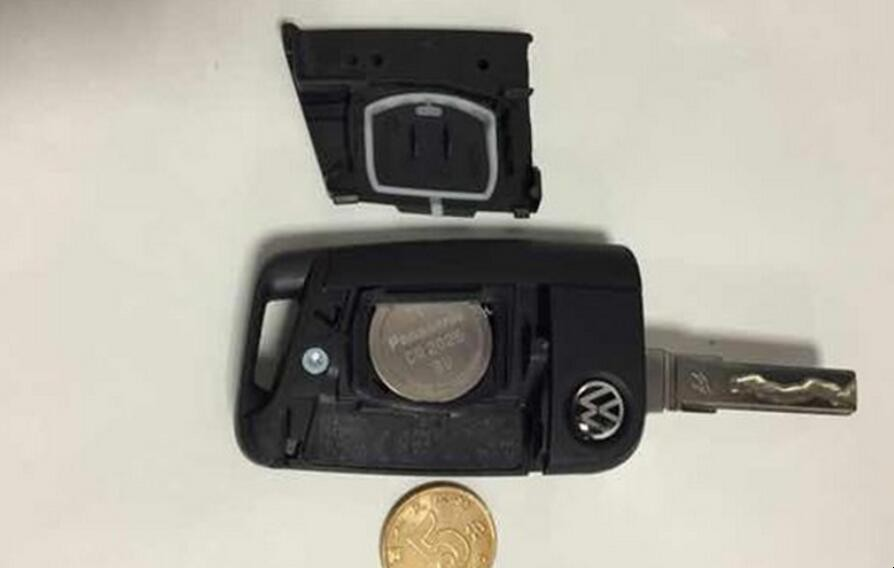key: (198, 239, 880, 482)
